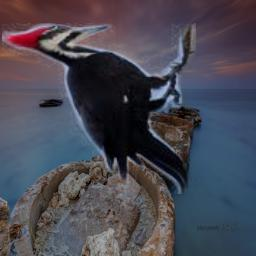Woodpecker: (2, 23, 196, 194)
